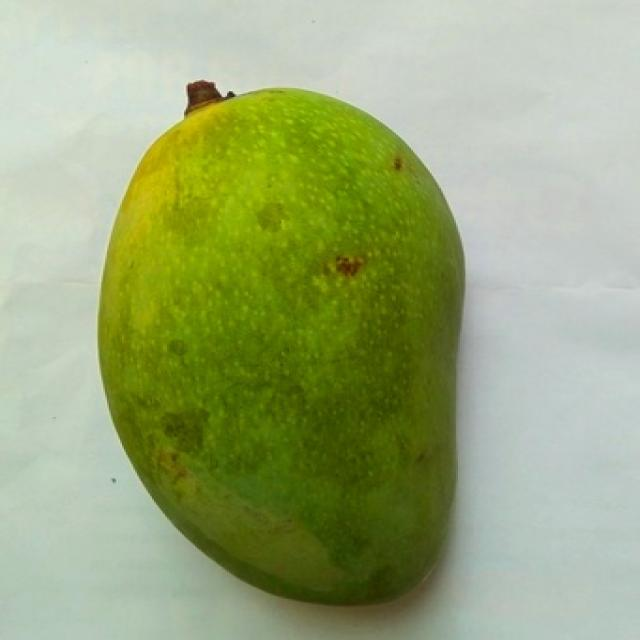Mango: (98, 88, 464, 604)
